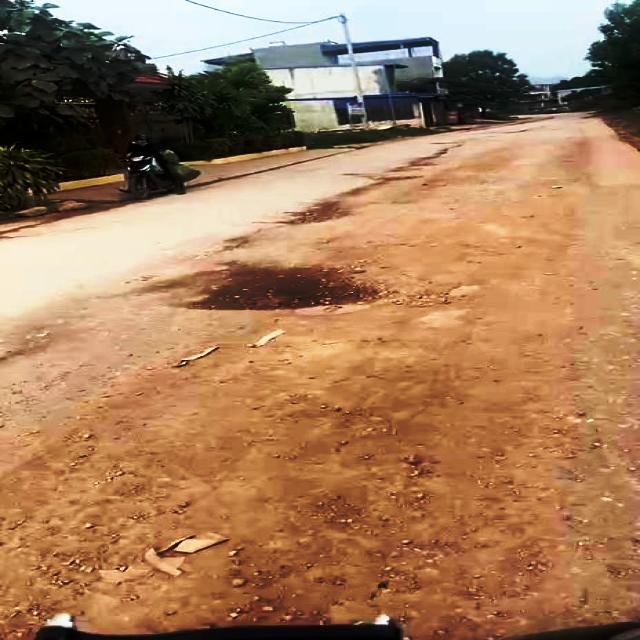pothole: (379, 193, 593, 310), (154, 253, 406, 318), (277, 196, 366, 226)
